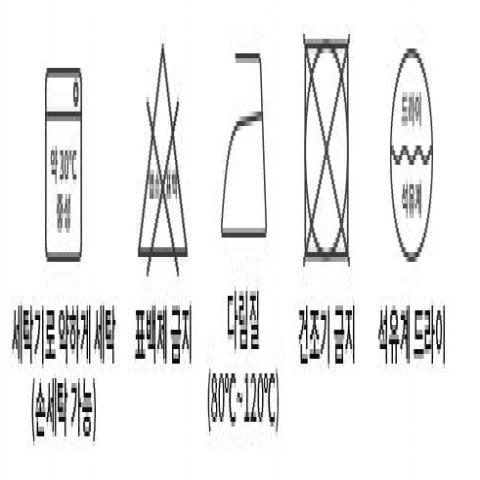30C: (36, 63, 91, 272)
DN_tumble_dry: (293, 26, 367, 275)
dry_clean_petrol_only: (381, 32, 448, 270)
iron: (209, 46, 276, 252)
non_chlorine_bleach: (134, 44, 198, 278)
